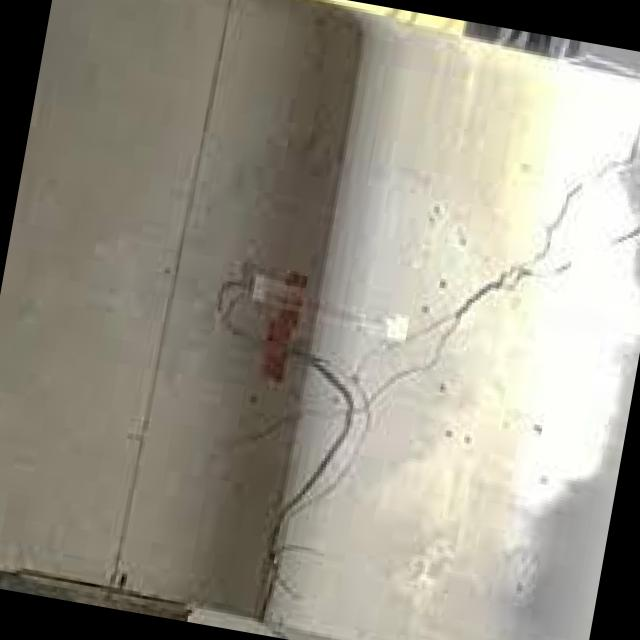crack: (460, 120, 640, 315), (261, 344, 356, 623), (351, 312, 460, 409), (368, 320, 461, 405), (294, 416, 371, 512)
